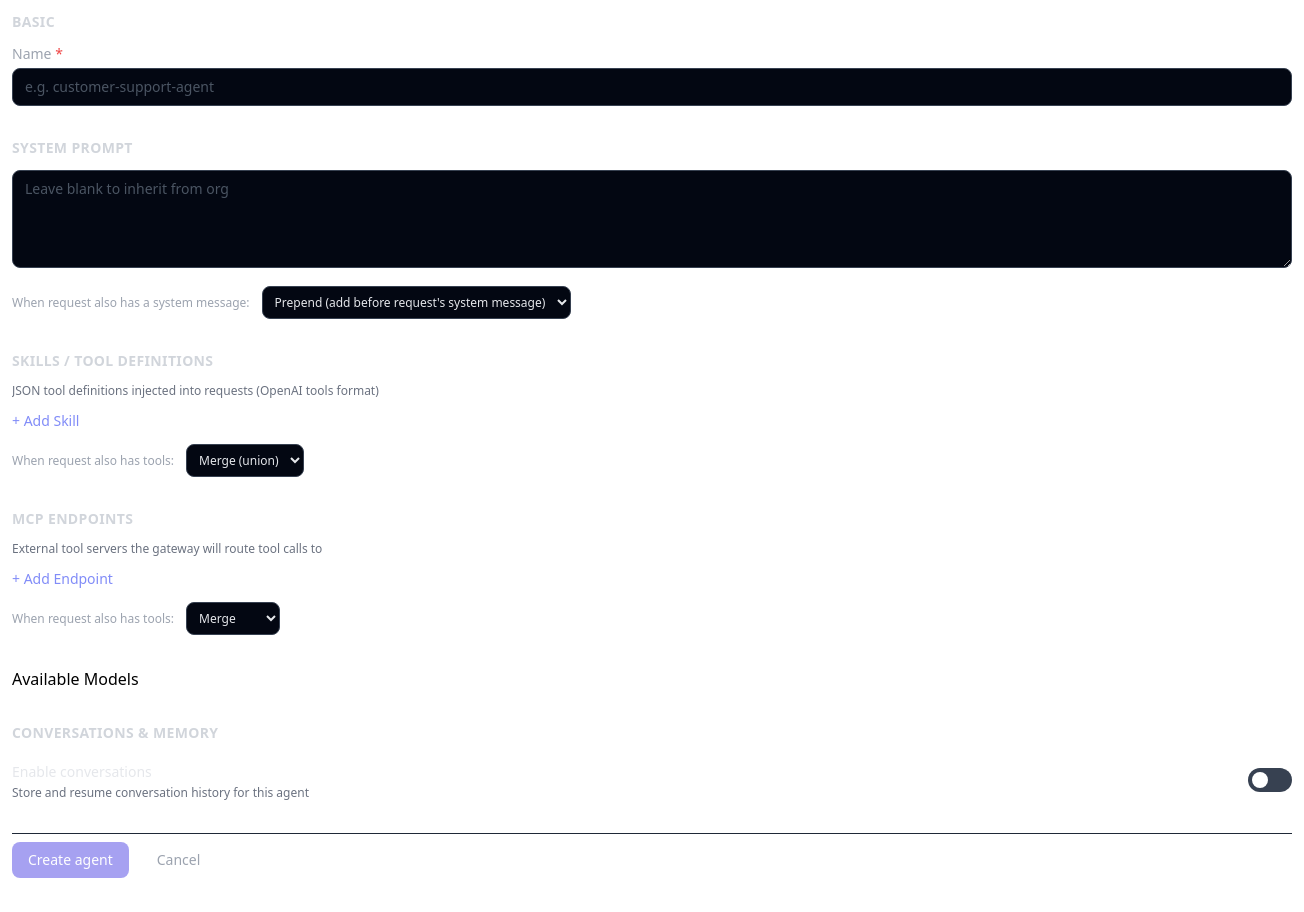
Test: AgentEditor › conversation memory › shows memory fields when conversations toggle is enabled
Click the switch at (1270, 780), box [1248,768,1292,792]
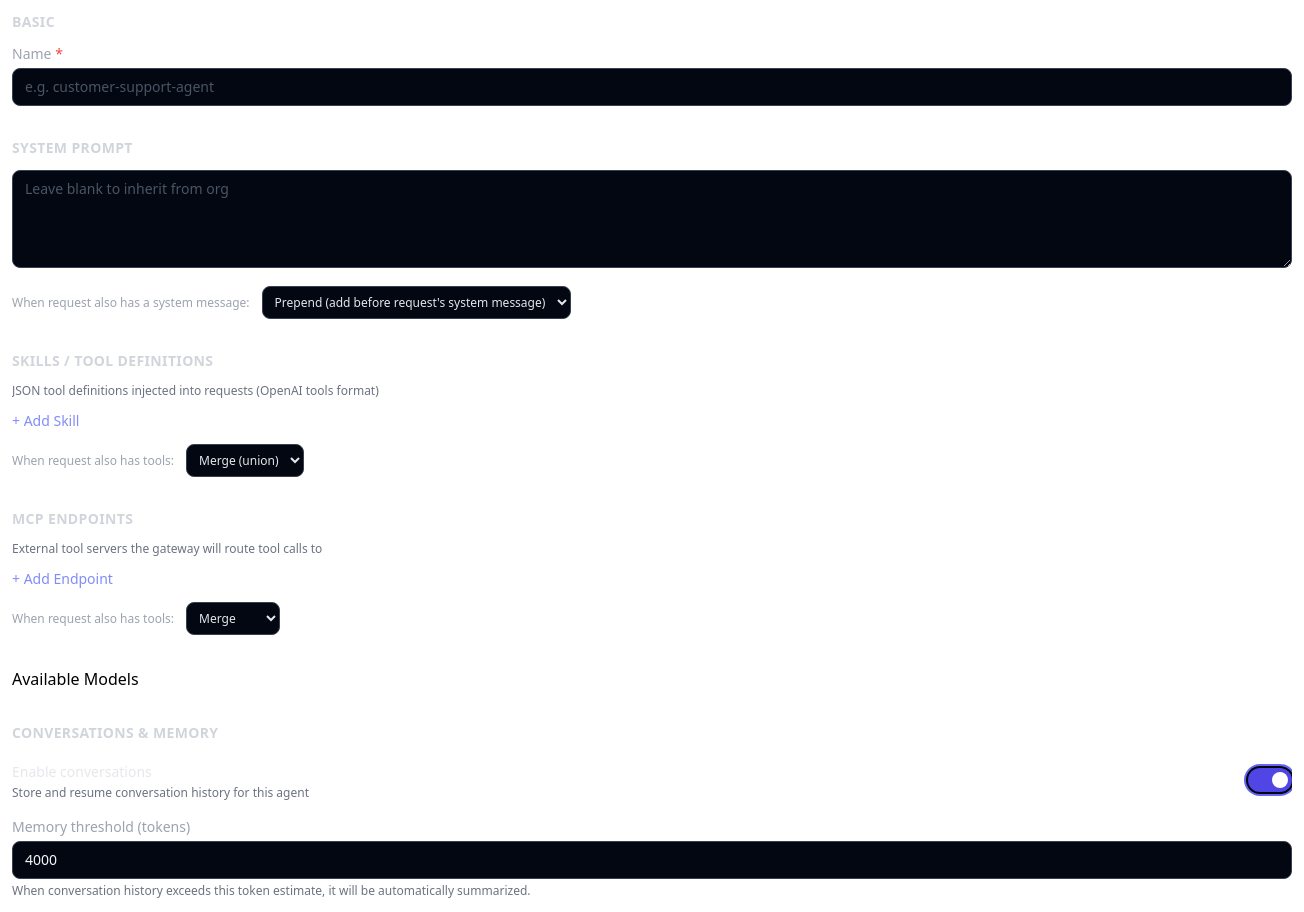
Check: the text "Memory threshold (tokens)" is shown, box [12,817,190,836]
